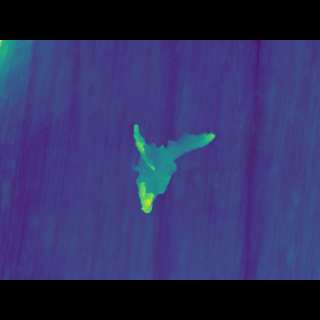Loch: (122, 129, 221, 200)
